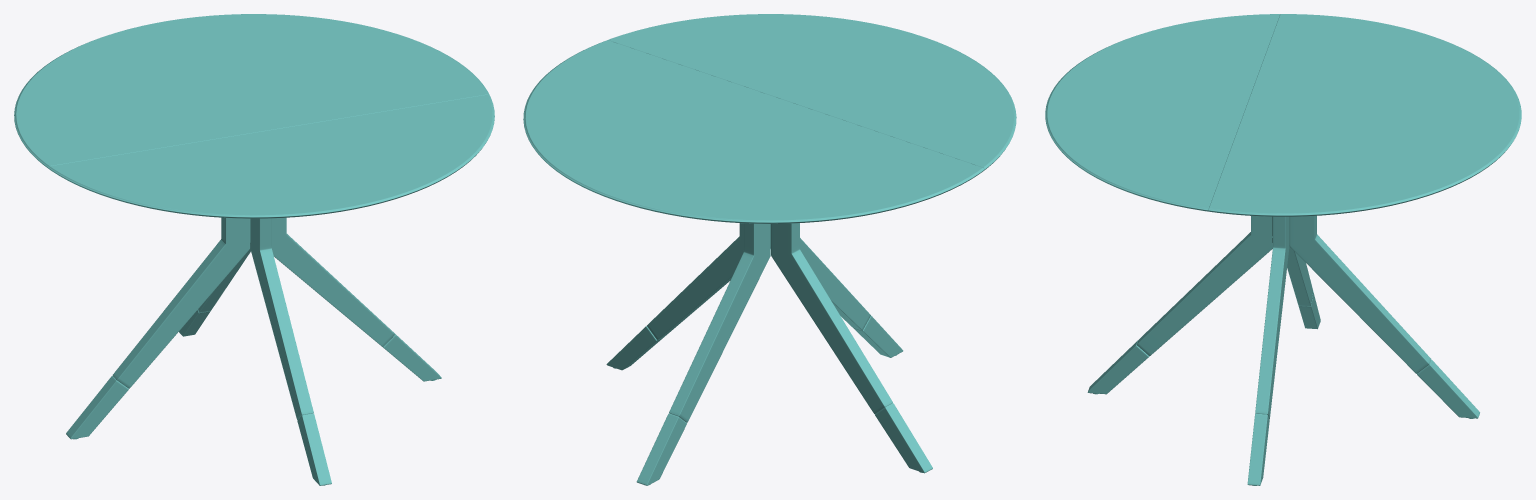
3 renders of one model, left to right at view 1: azimuth 30°, elevation 25°; view 2: azimuth 150°, elevation 25°; view 3: azimuth 270°, elevation 25°, orthographic. The views are drawn at different scales.
Visible parts, largest first — view 1: Cylinder005, Cylinder004, Line004, Line001, Line002, Line003; view 2: Cylinder005, Cylinder004, Line004, Line003, Line002, Line001; view 3: Cylinder005, Cylinder004, Line003, Line001, Line002, Line004.
Boxes of the visible parts, x1,y1,x2,y2 form: Cylinder005: [14, 14, 489, 168]; Cylinder004: [48, 94, 494, 218]; Line004: [66, 217, 249, 439]; Line001: [250, 218, 331, 485]; Line002: [272, 217, 441, 381]; Line003: [179, 219, 250, 336]; Cylinder005: [523, 40, 984, 223]; Cylinder004: [608, 14, 1016, 170]; Line004: [771, 223, 932, 473]; Line003: [636, 223, 770, 485]; Line002: [606, 223, 743, 370]; Line001: [770, 224, 903, 357]; Cylinder005: [1208, 14, 1521, 216]; Cylinder004: [1045, 14, 1279, 211]; Line003: [1289, 216, 1479, 418]; Line001: [1087, 216, 1272, 394]; Line002: [1247, 216, 1289, 485]; Line004: [1287, 246, 1320, 329].
Bounding box in the file's own units: 110 × 74.53 × 110.
